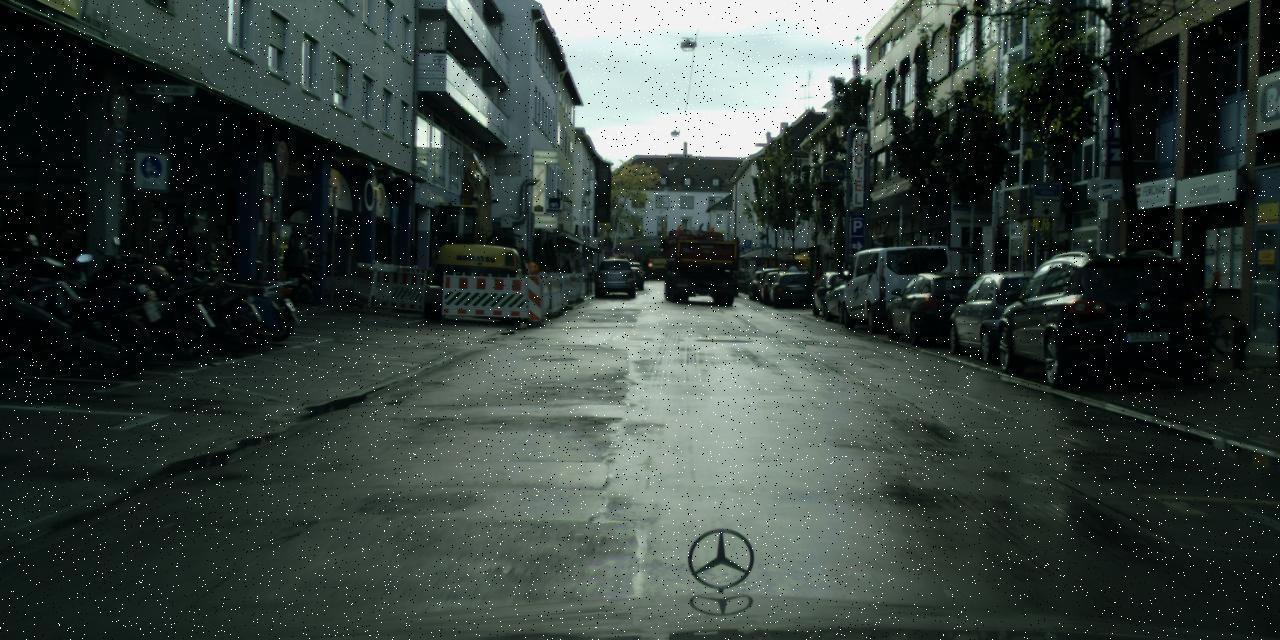ped: (168, 225, 198, 299), (557, 256, 572, 292), (560, 259, 574, 296), (813, 266, 826, 296), (786, 262, 799, 292), (586, 261, 593, 281)
